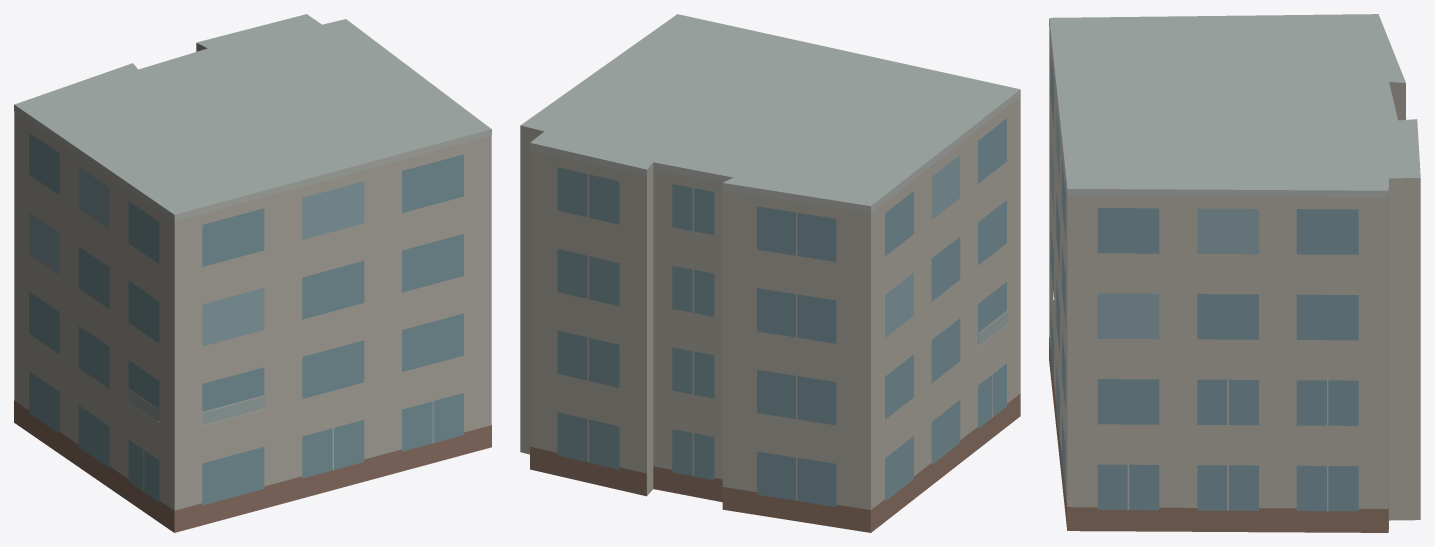
The model's file is survey-upis-32731960.glb.
3 renders of one model, left to right at view 1: azimuth 30°, elevation 25°; view 2: azimuth 150°, elevation 25°; view 3: azimuth 270°, elevation 25°, orthographic. The views are drawn at different scales.
Visible parts, largest first — view 1: survey-upis-32731960.tmp; view 2: survey-upis-32731960.tmp; view 3: survey-upis-32731960.tmp.
Boxes of the visible parts, x1,y1,x2,y2 form: survey-upis-32731960.tmp: [14, 14, 491, 532]; survey-upis-32731960.tmp: [520, 14, 1020, 532]; survey-upis-32731960.tmp: [1049, 14, 1420, 532].
Bounding box in the file's own units: 12.97 × 11.7 × 11.53.
